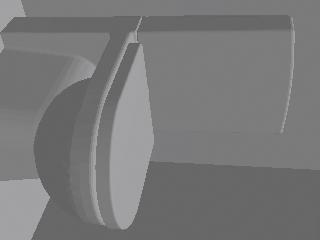lid_1: (95, 42, 153, 228)
